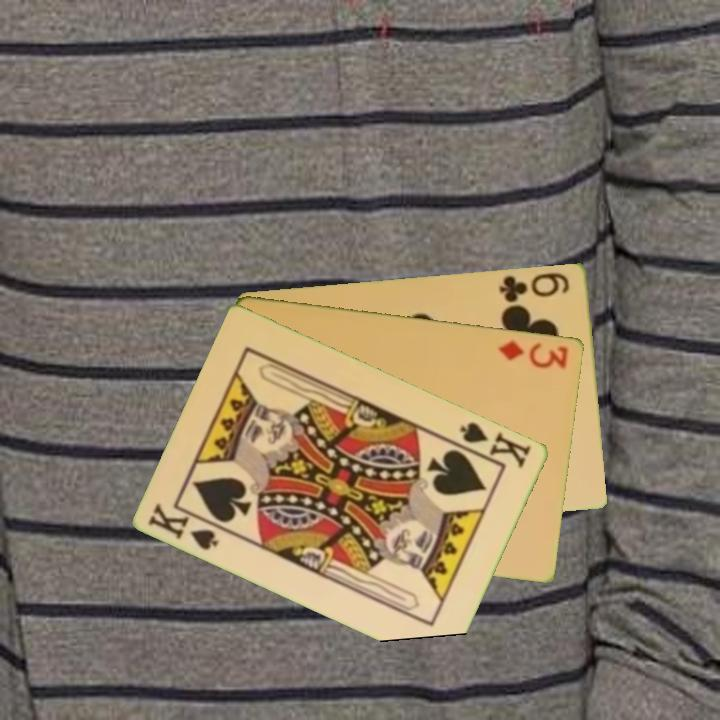3d: (495, 336, 571, 372)
6c: (496, 268, 573, 305)
Ks: (145, 499, 230, 553), (451, 418, 535, 471)
